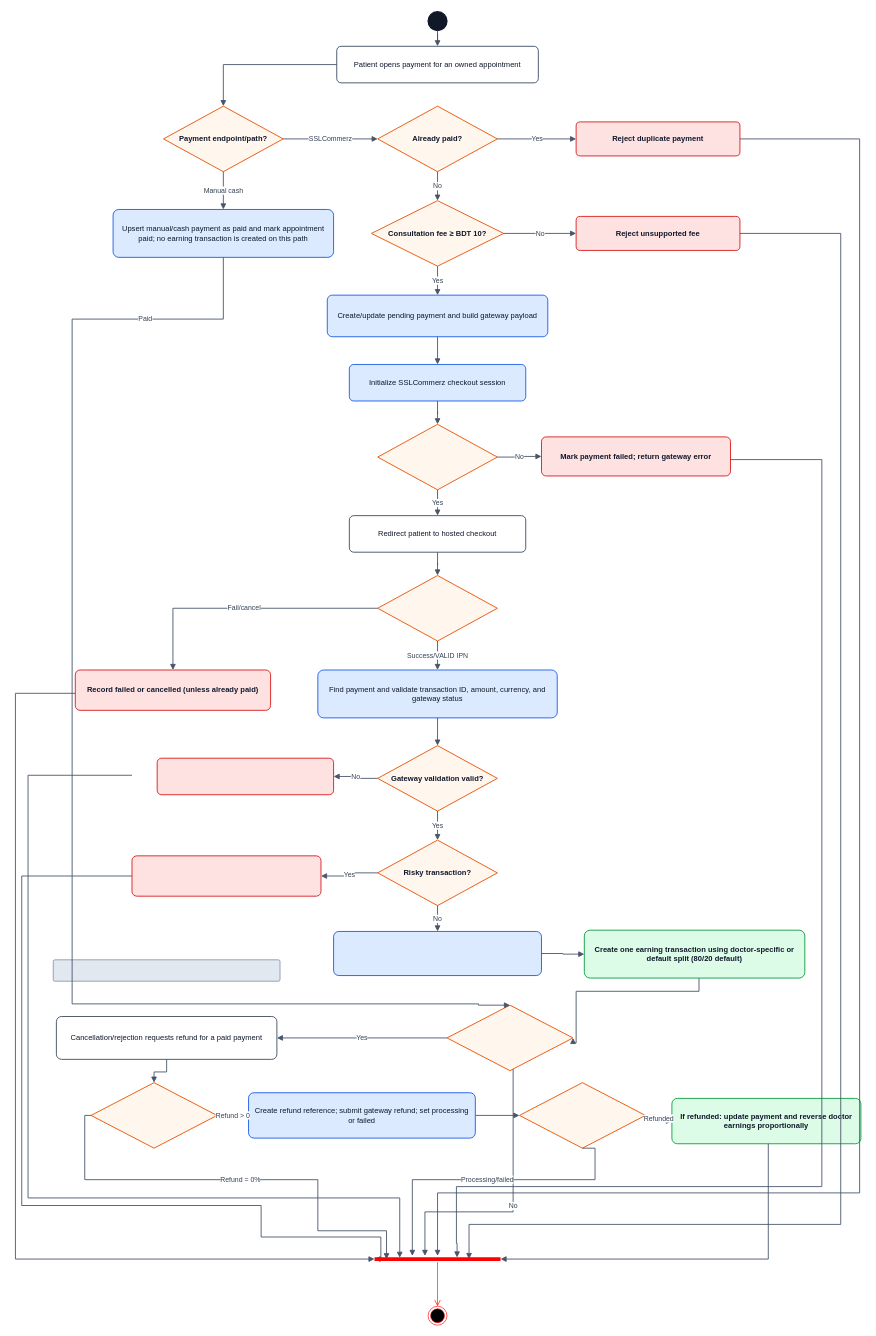
This 876x1336 diagram has some shape labels left out. The box of each missing label's shape, as (x1, y1, x2, y2) in pixels:
Atomically mark payment paid and appointment payment status paid: (333, 931, 542, 976)
Callback/IPN outcome?: (377, 575, 498, 641)
Cancellation timing / actor?: (90, 1082, 217, 1148)
Gateway session created?: (377, 424, 498, 490)
Keep gateway response; return failure: (156, 757, 334, 795)
Later cancellation or rejection?: (446, 1004, 573, 1071)
REFUND AFTER CANCELLATION: (53, 959, 280, 981)
Set payment to reviewing; await manual risk review: (131, 855, 321, 896)
Status check final?: (519, 1082, 646, 1148)
